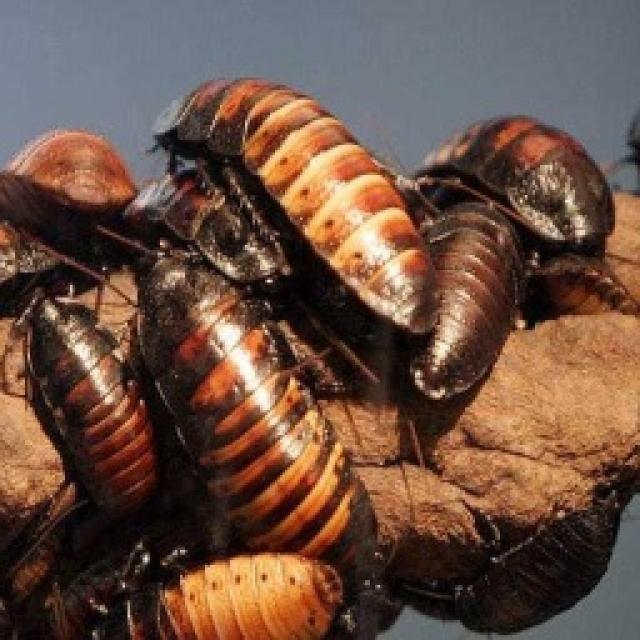cockroach: (136, 230, 392, 609), (143, 75, 475, 367), (7, 266, 190, 538), (392, 97, 640, 250), (417, 172, 533, 444), (80, 546, 384, 640), (8, 124, 155, 234)
